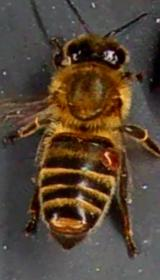varroa_mite: (89, 138, 128, 178)
